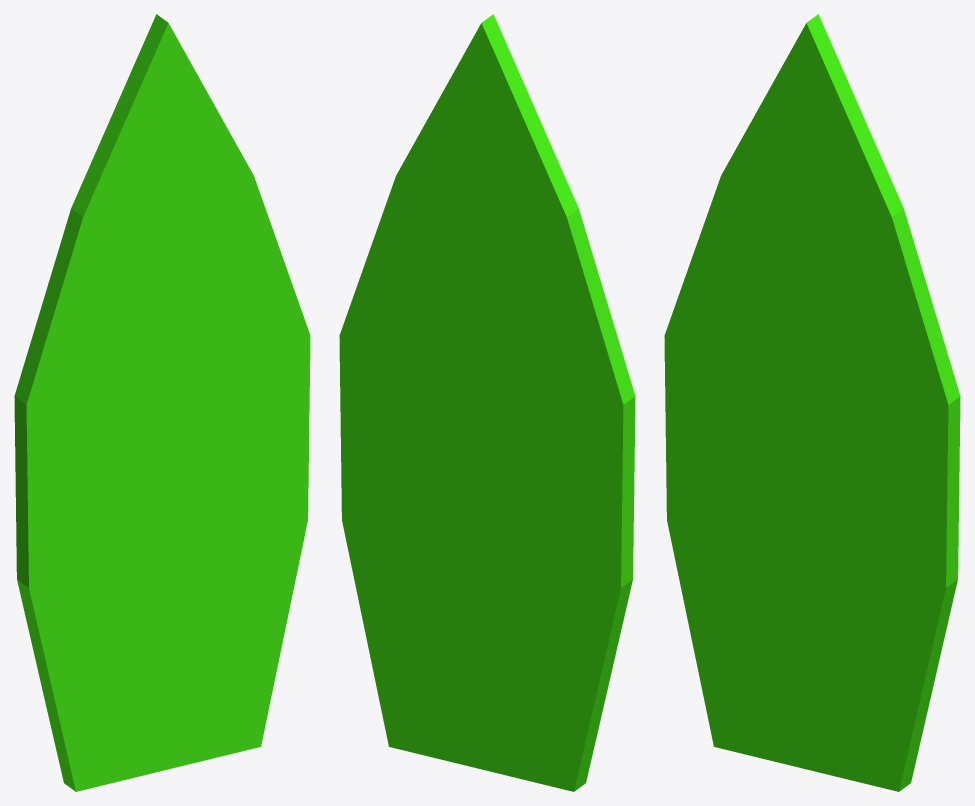
Rendered from Rigged Grass Export 53.fbx.
3 views of the same model, side by side, from view 1: azimuth 30°, elevation 25°; view 2: azimuth 150°, elevation 25°; view 3: azimuth 330°, elevation 25° (orthographic).
Visible parts, largest first — view 1: Grass 1; view 2: Grass 1; view 3: Grass 1.
Boxes of the visible parts, x1=… form: Grass 1: x1=14, y1=14, x2=310, y2=791; Grass 1: x1=339, y1=14, x2=635, y2=791; Grass 1: x1=664, y1=14, x2=960, y2=791.
Size of the model in its own units: 141 by 354 by 10.37.
